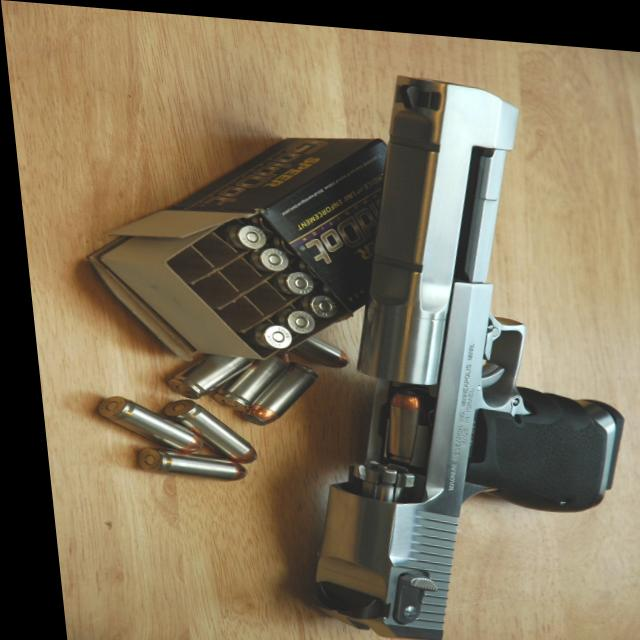handgun: (249, 58, 636, 640)
